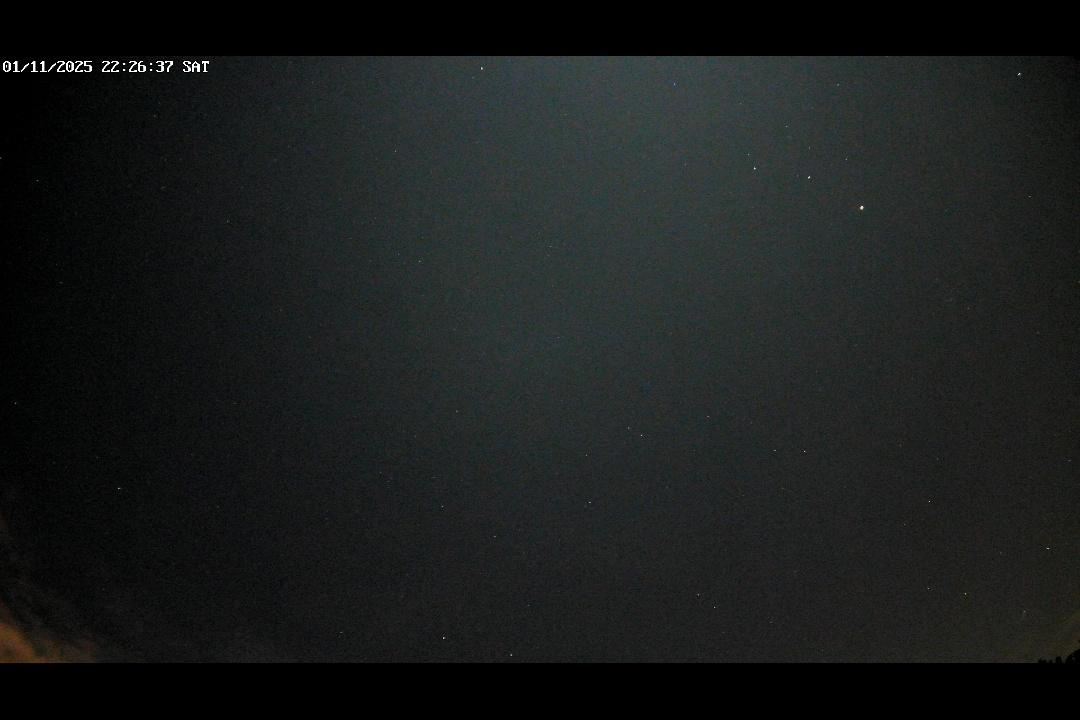Plane: (1015, 597, 1034, 629)
